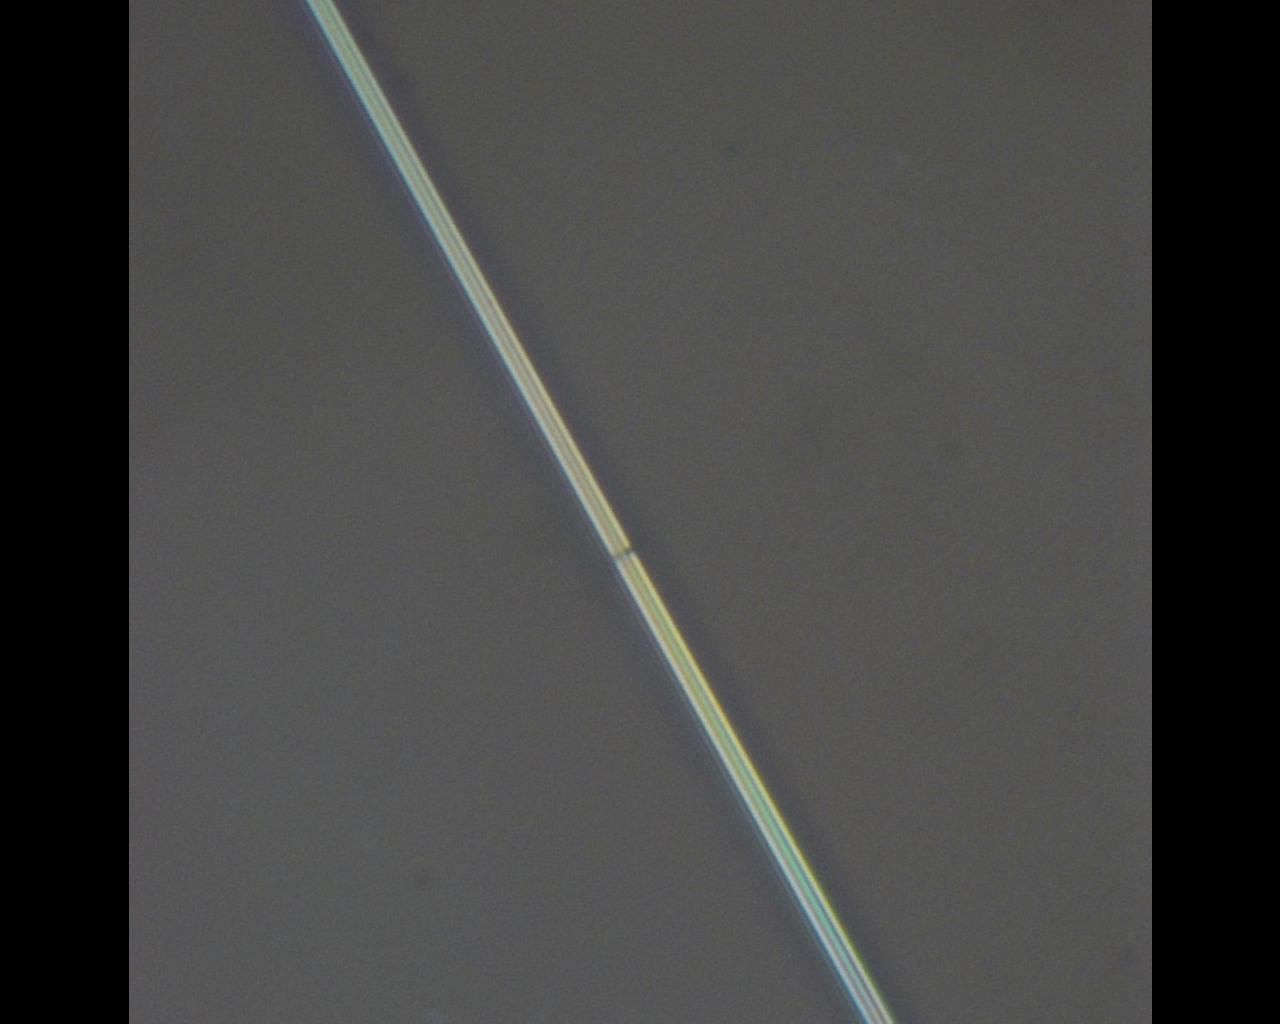fiber: (306, 0, 890, 1024)
